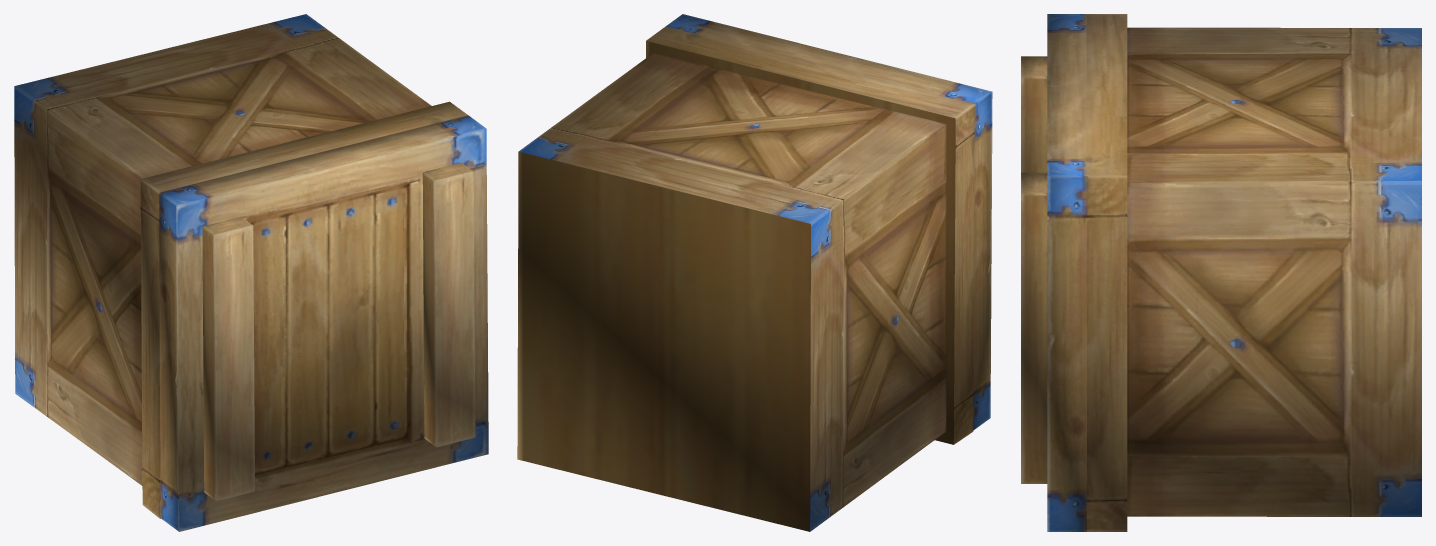
3 views of the same model, side by side, from view 1: azimuth 30°, elevation 25°; view 2: azimuth 150°, elevation 25°; view 3: azimuth 270°, elevation 25° (orthographic). The views are drawn at different scales.
Parts seen in each view (by area): view 1: "Editable Poly"; view 2: "Editable Poly"; view 3: "Editable Poly".
Boxes of the visible parts, x1=… form: "Editable Poly": x1=14, y1=14, x2=488, y2=531; "Editable Poly": x1=517, y1=14, x2=992, y2=531; "Editable Poly": x1=1021, y1=14, x2=1421, y2=531.
Bounding box in the file's own units: 1.1 × 1.11 × 1.13.
